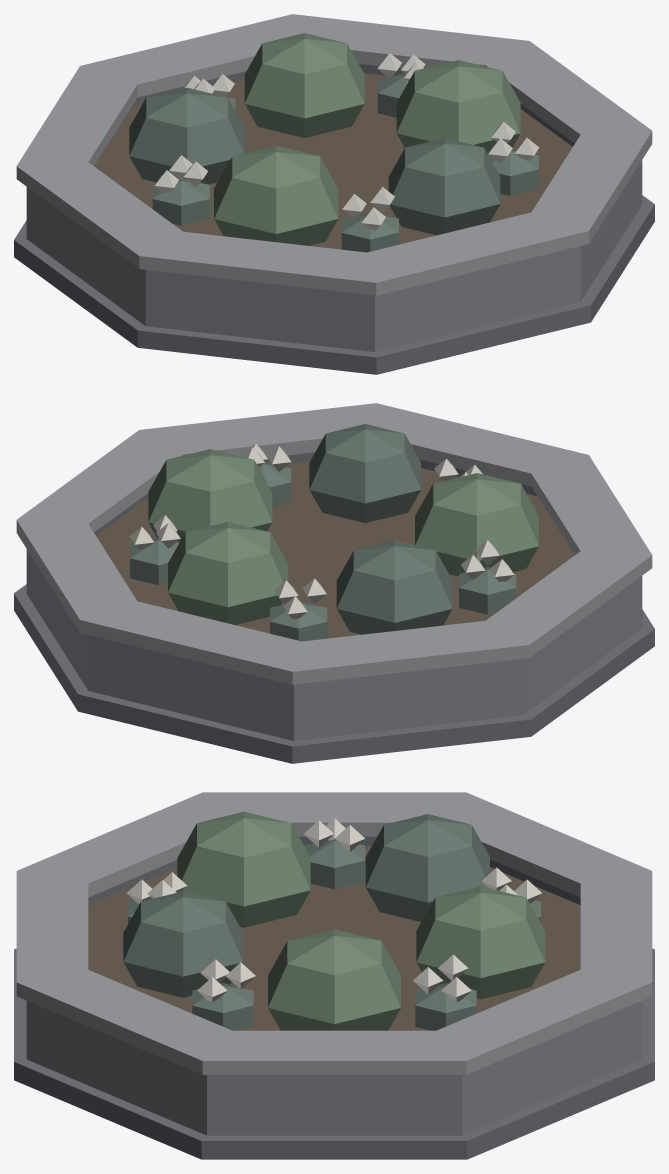
File: jardinera.glb
The picture shows the model from 3 angles, top to bottom: view 1: azimuth 30°, elevation 25°; view 2: azimuth 150°, elevation 25°; view 3: azimuth 270°, elevation 25°; orthographic projection. The views are drawn at different scales.
Parts seen in each view (by area): view 1: Jardinera; view 2: Jardinera; view 3: Jardinera.
Boxes of the visible parts, x1,y1,x2,y2 form: Jardinera: [14, 14, 654, 374]; Jardinera: [14, 403, 654, 763]; Jardinera: [14, 792, 654, 1159].
Bounding box in the file's own units: 2.5 × 0.66 × 2.5.
